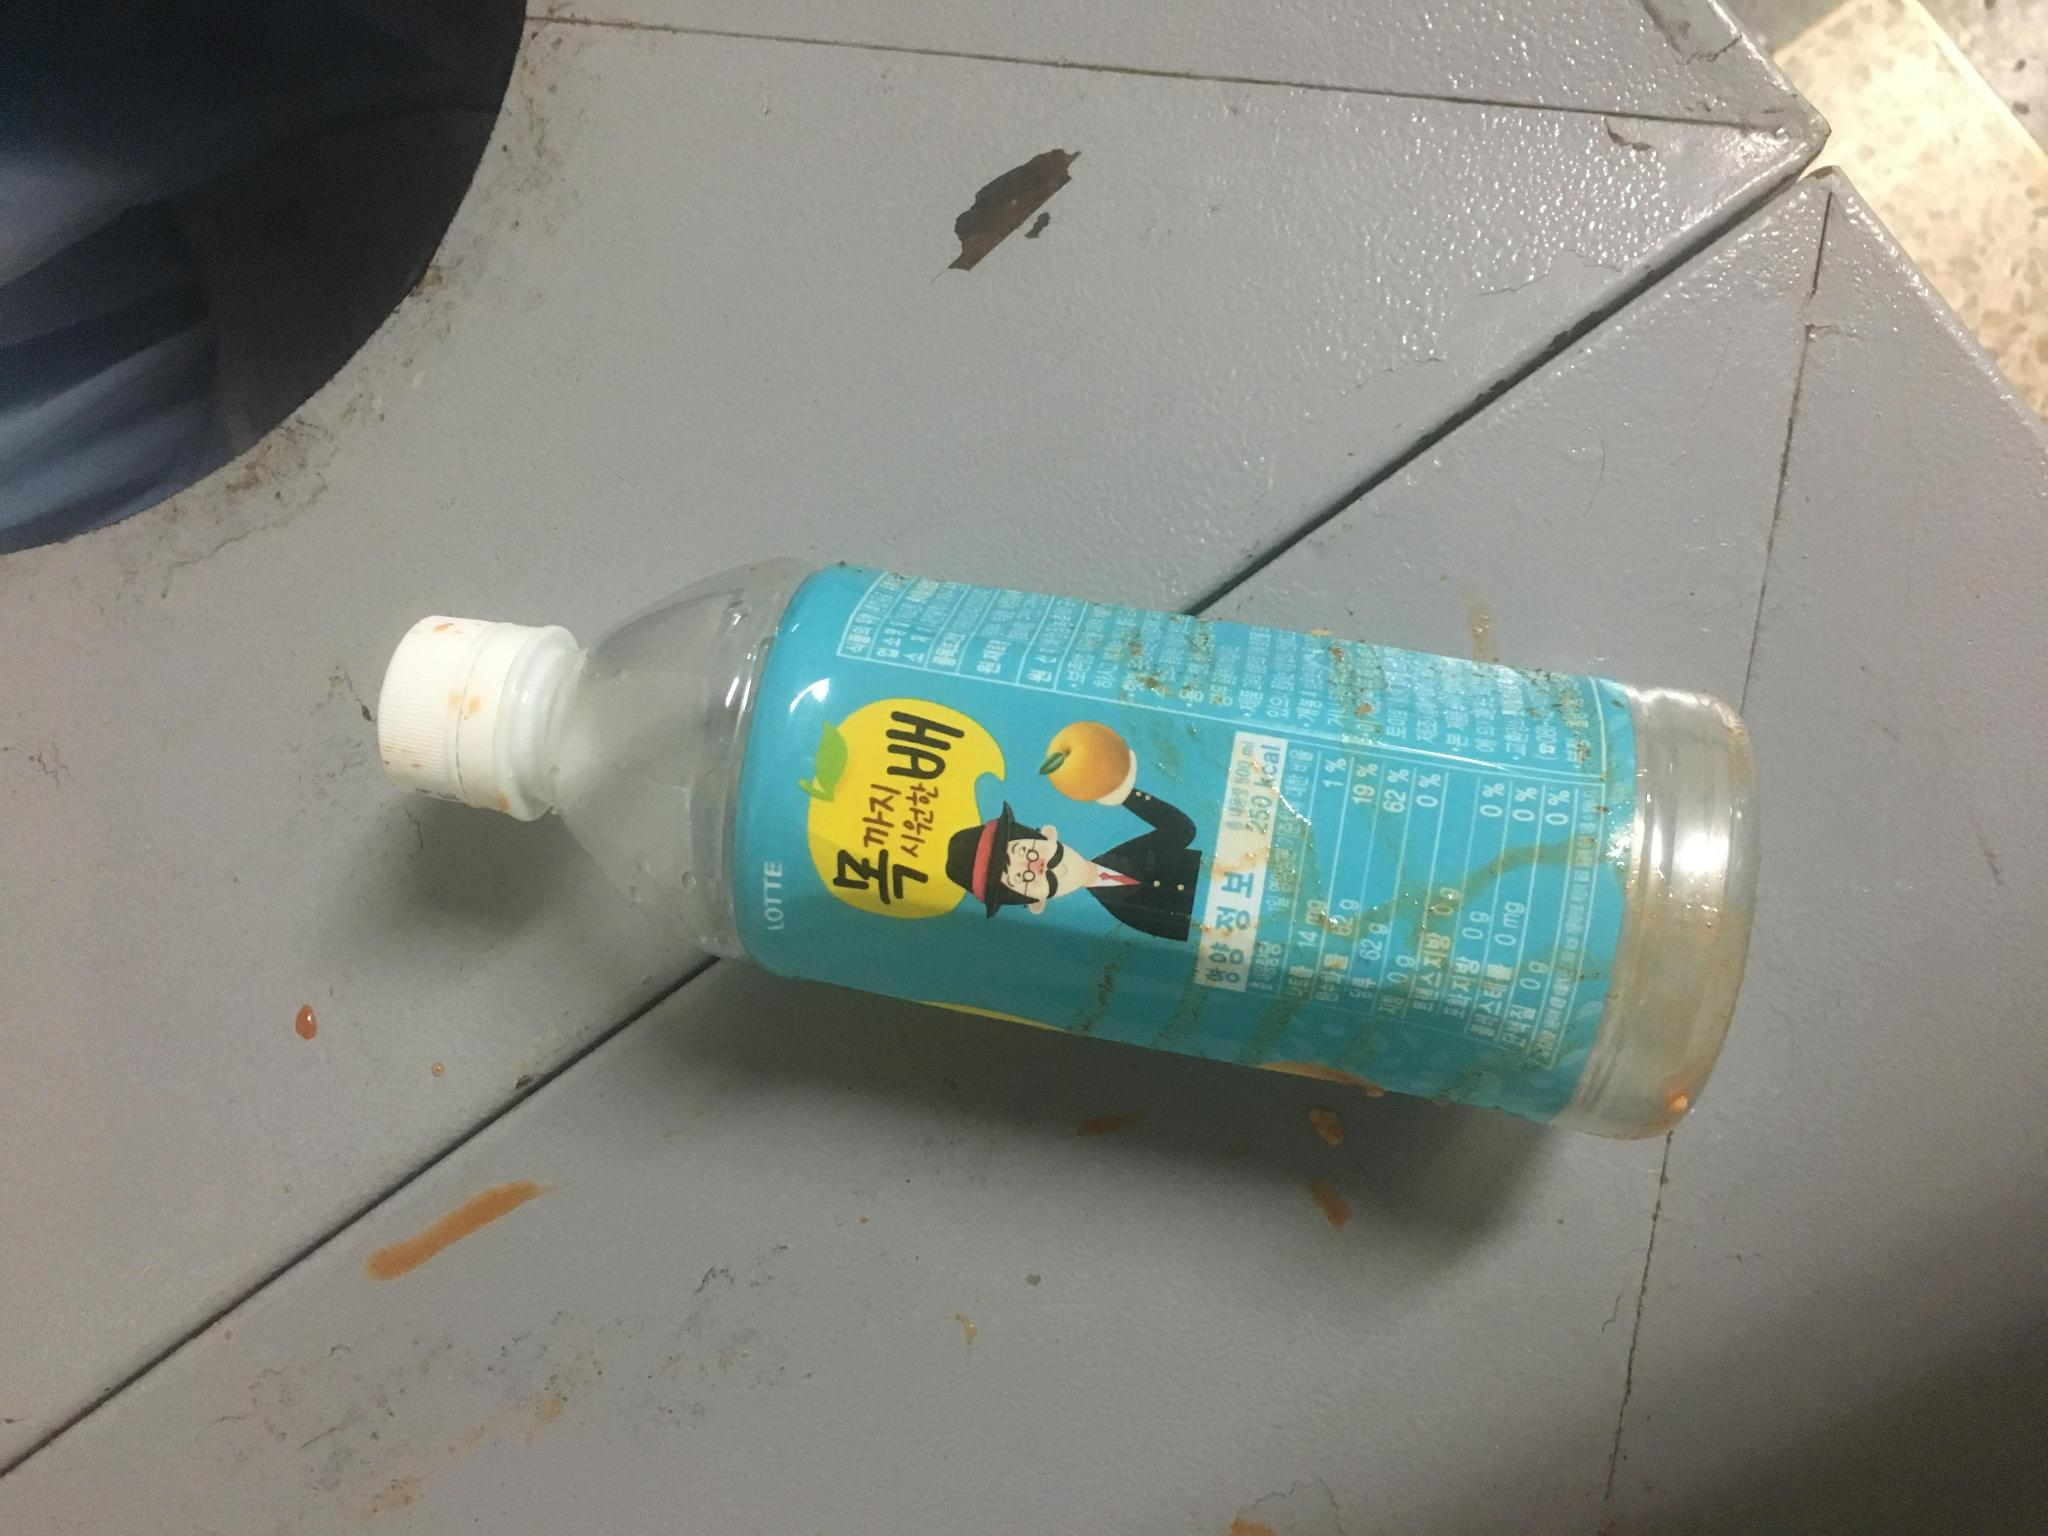bottle: (380, 544, 1802, 1136)
